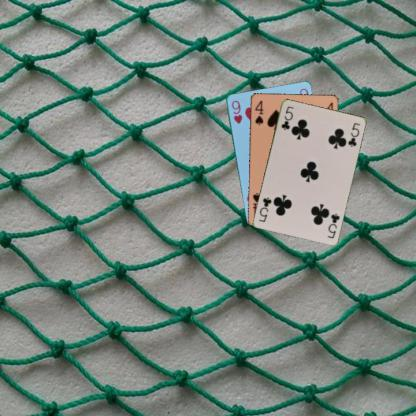4s: (252, 98, 264, 126)
5c: (325, 210, 341, 240), (278, 104, 295, 131)
9h: (229, 98, 243, 125)
